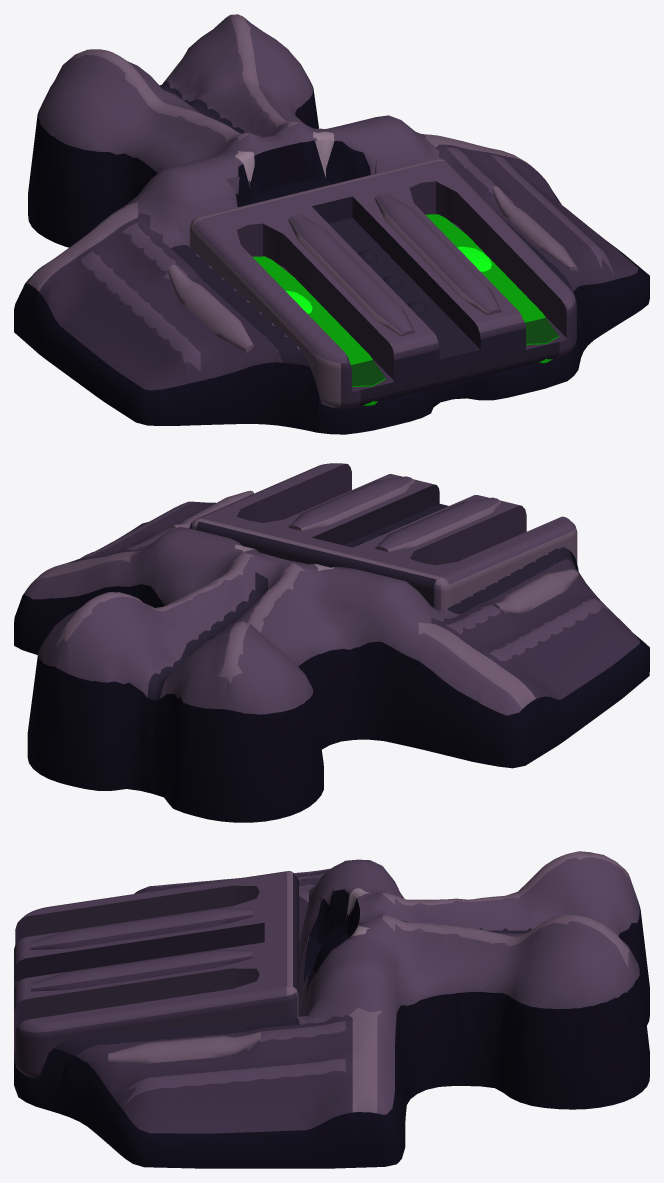
The model's file is purple_beacon.glb.
The picture shows the model from 3 angles, top to bottom: view 1: azimuth 30°, elevation 25°; view 2: azimuth 150°, elevation 25°; view 3: azimuth 270°, elevation 25°; orthographic projection. The views are drawn at different scales.
Parts seen in each view (by area): view 1: body, block, ridge1, ridge-1, floor-1, floor1, strip1, strip-1; view 2: body, block, ridge-1, ridge1, strip1, strip-1; view 3: body, block, ridge-1, ridge1, strip-1.
Boxes of the visible parts, x1,y1,x2,y2 form: body: (14,14,649,434); block: (189,158,576,408); ridge1: (375,193,501,315); ridge-1: (288,214,414,336); floor-1: (252,256,385,405); floor1: (425,214,558,363); strip1: (168,265,253,352); strip-1: (492,186,578,271); body: (14,501,649,822); block: (189,463,577,611); ridge-1: (375,497,501,552); ridge1: (288,476,414,530); strip1: (492,569,578,613); strip-1: (167,490,253,528); body: (14,851,649,1168); block: (14,871,298,1077); ridge-1: (31,908,252,949); ridge1: (31,949,252,991); strip-1: (108,1031,260,1063).
Bounding box in the file's own units: 24 × 7.25 × 26.
